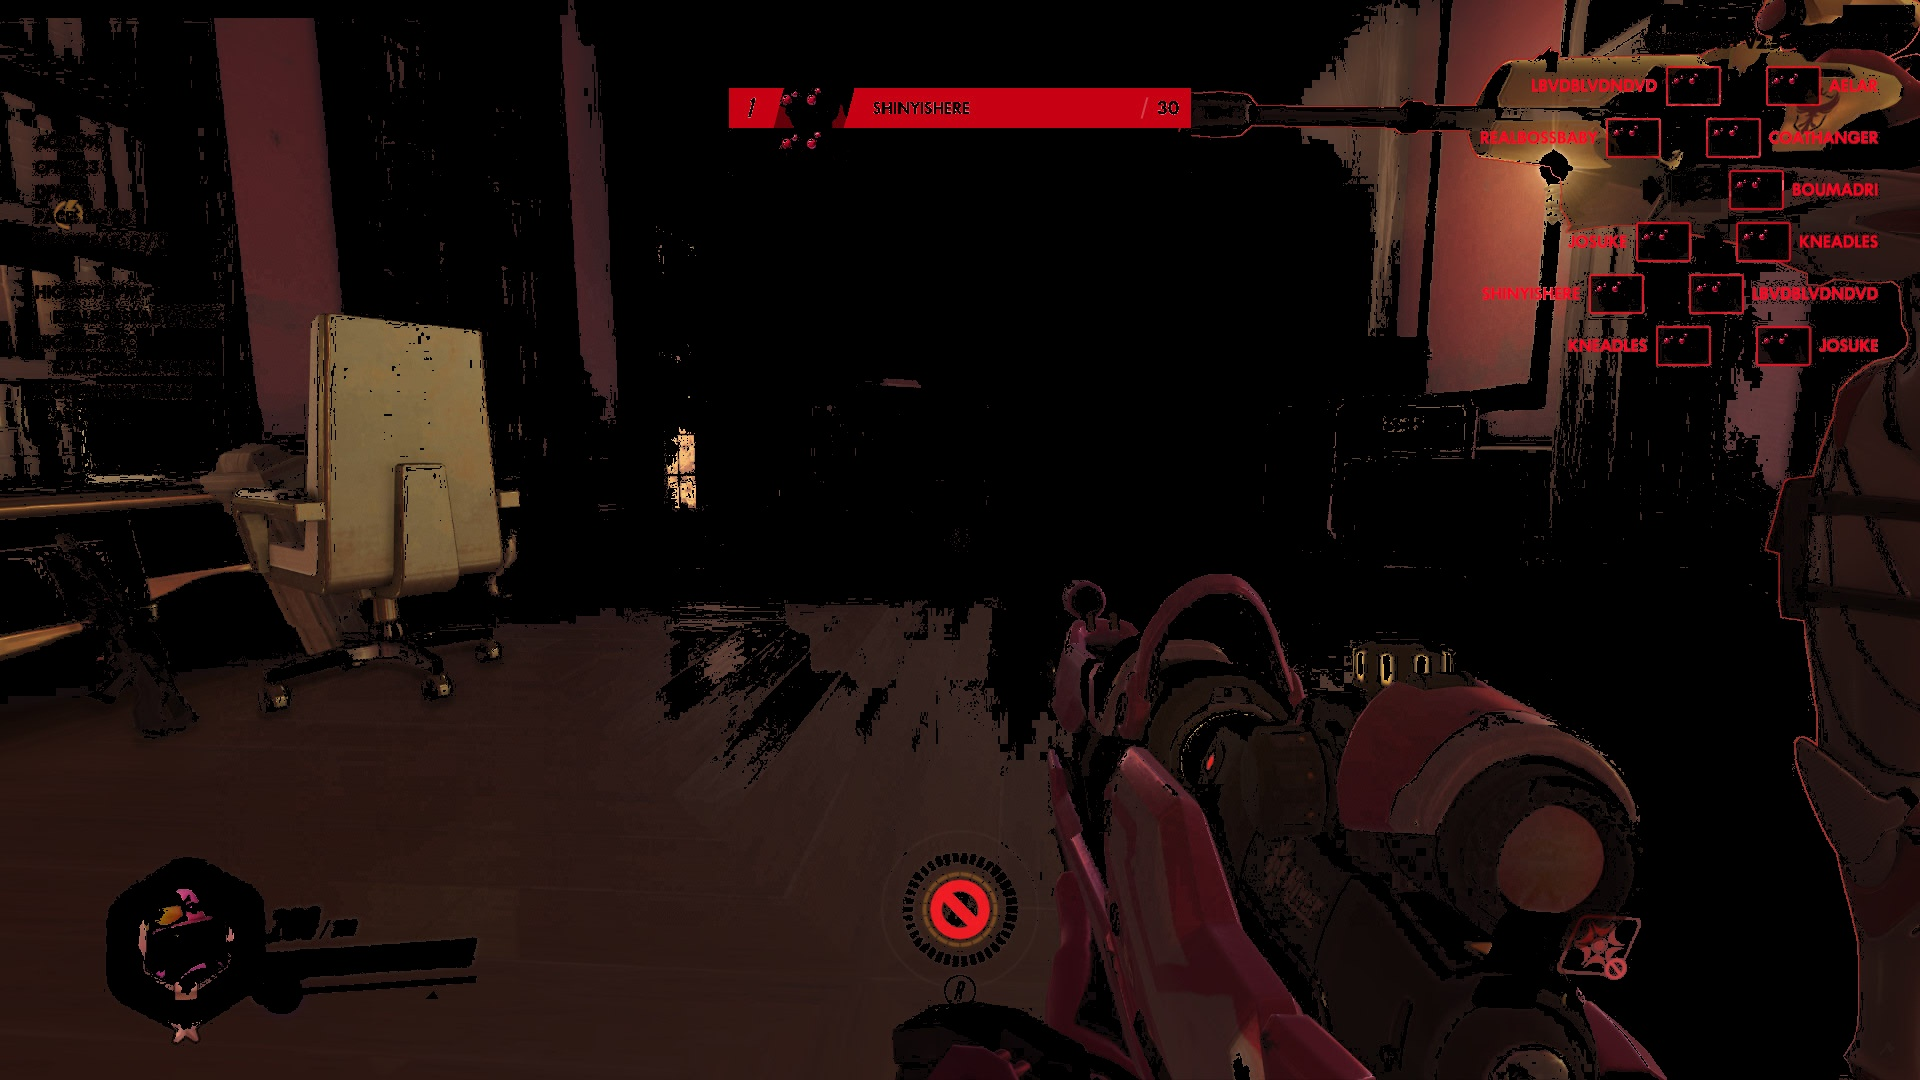widowmaker: (1673, 1, 1920, 1077)
